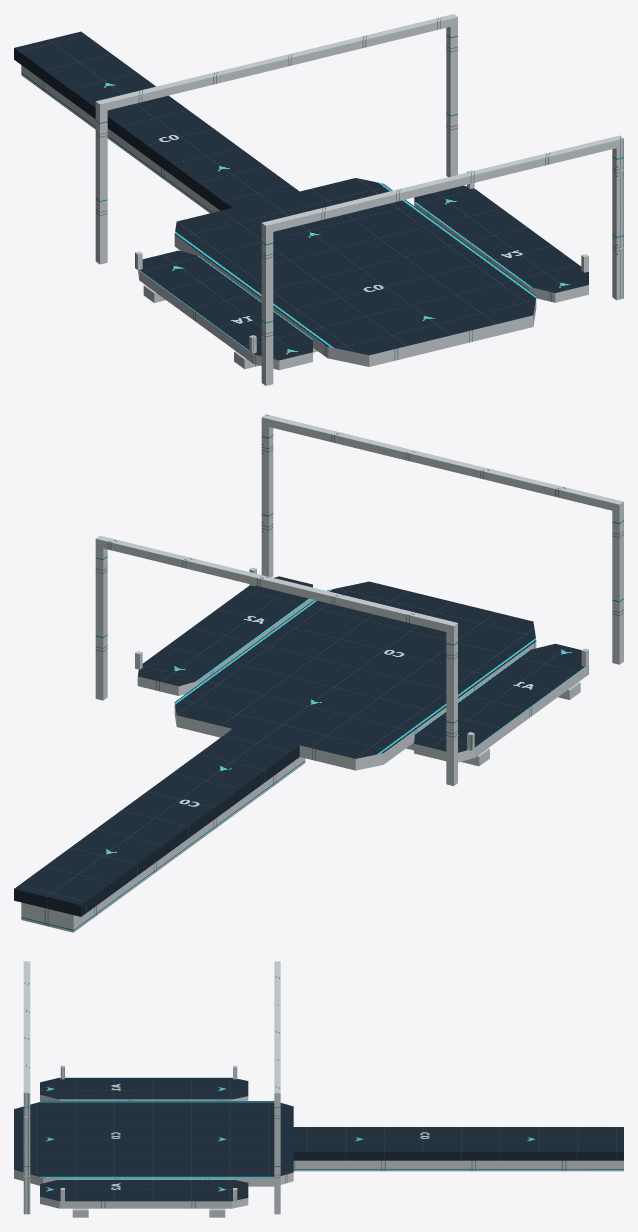
File: Muelle.obj
3 renders of one model, top to bottom at view 1: azimuth 30°, elevation 25°; view 2: azimuth 150°, elevation 25°; view 3: azimuth 270°, elevation 25°, orthographic. The views are drawn at different scales.
Parts seen in each view (by area): view 1: Muelle_Orbital_Abierto; view 2: Muelle_Orbital_Abierto; view 3: Muelle_Orbital_Abierto.
Boxes of the visible parts, x1,y1,x2,y2 form: Muelle_Orbital_Abierto: (14, 14, 623, 385); Muelle_Orbital_Abierto: (14, 414, 623, 932); Muelle_Orbital_Abierto: (14, 961, 623, 1217).
Bounding box in the file's own units: 192 × 91 × 375.
Materials: 2 (2 with a texture image).
